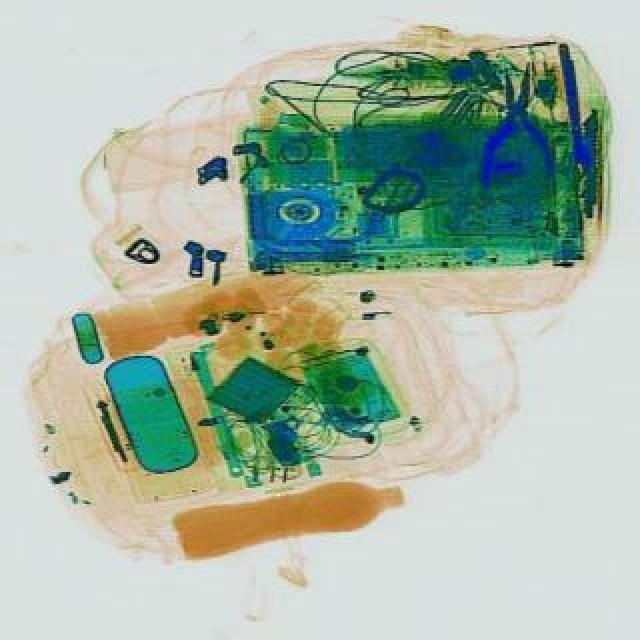wrench: (474, 60, 554, 188)
